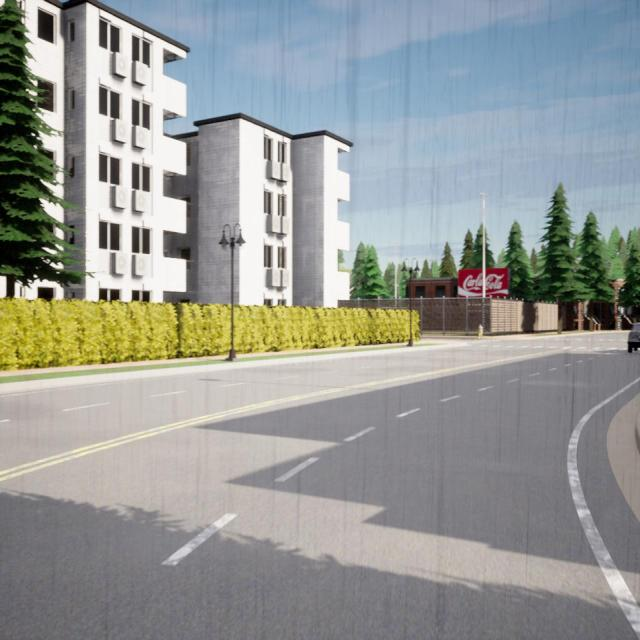Pedestrian: (477, 323, 484, 340)
Vehicle: (627, 322, 640, 353)
